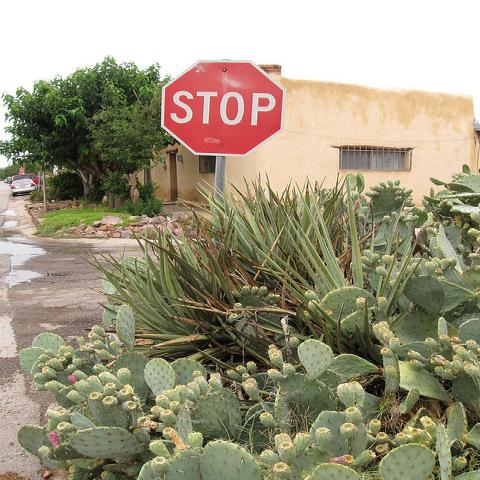car: (9, 178, 37, 196), (12, 173, 38, 185)
